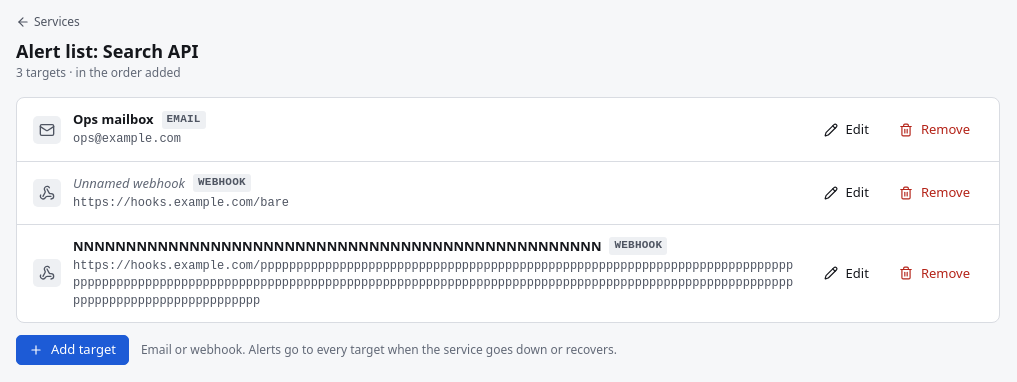
Test: removing a target › opens the question in that row only, focuses the confirming Remove, and sends nothing
Expected: the list named "Notification targets" is shown, [16,97,1000,323]
Step 1. Click the button with aria-label "Remove Ops mailbox" → (934, 130), box [886,114,983,144]
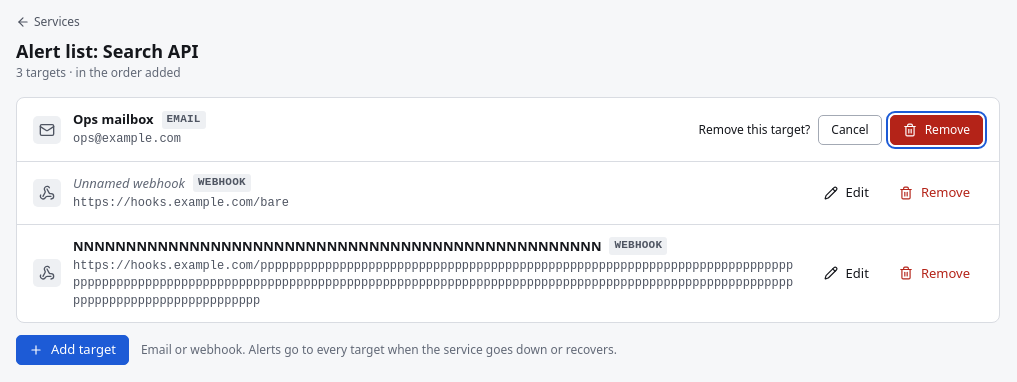
Expected: the number of elements named "Confirm removal" is 1, [698,114,983,144]
Expected: the text "Remove this target?" is shown, [698,121,810,138]
Expected: the button "Cancel" is shown, [818,114,882,144]
